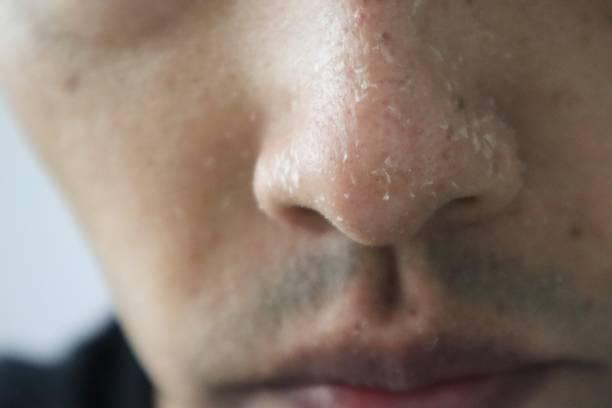Dry-Skin: (221, 264, 560, 377), (49, 38, 172, 207), (488, 52, 612, 217), (277, 54, 422, 161), (133, 98, 216, 213), (118, 284, 229, 293)
